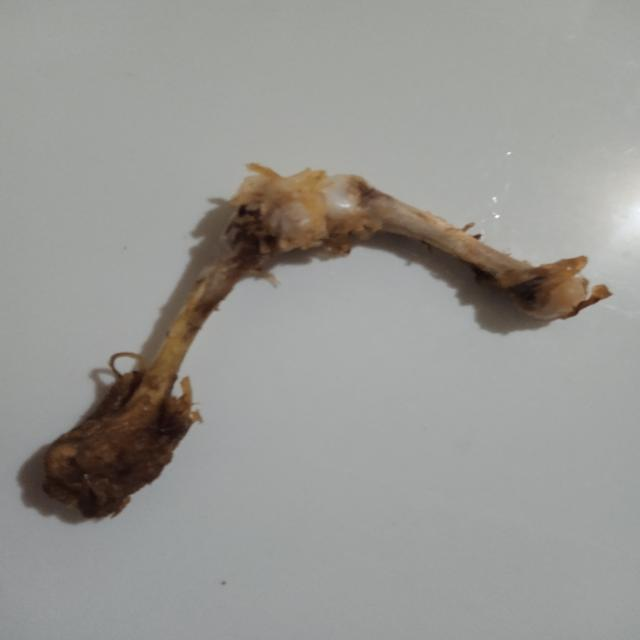bone: (0, 146, 640, 540)
